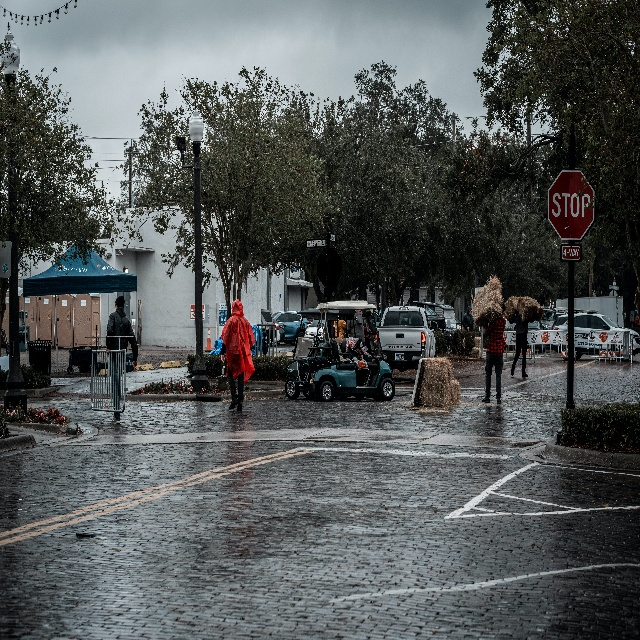Sin_guantes: (132, 358, 138, 370), (221, 353, 225, 363)
